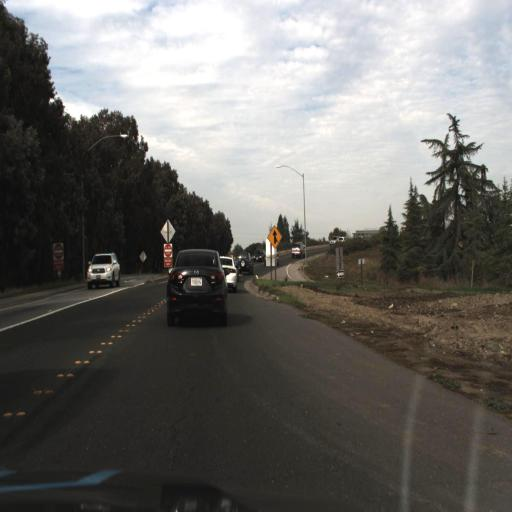car: (165, 248, 229, 334), (86, 250, 121, 292), (219, 254, 239, 304), (236, 249, 254, 278), (289, 238, 307, 259)
